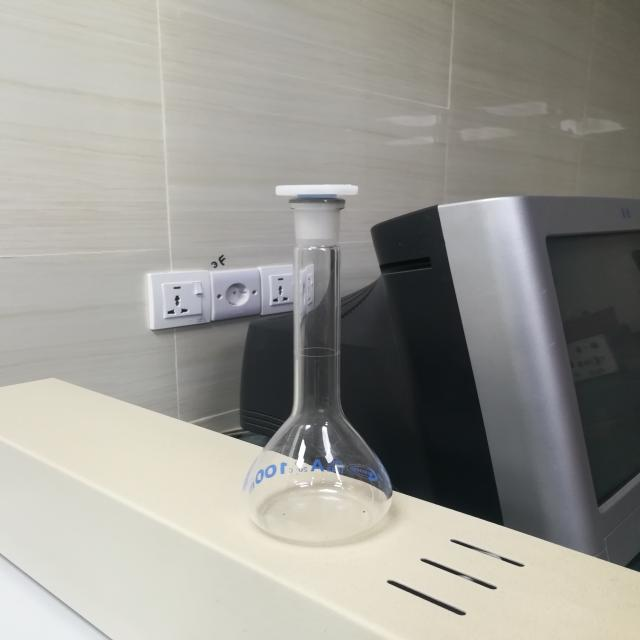Volumetric_Flask: (218, 124, 432, 556)
